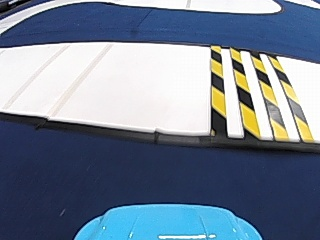bump: (197, 47, 302, 137)
